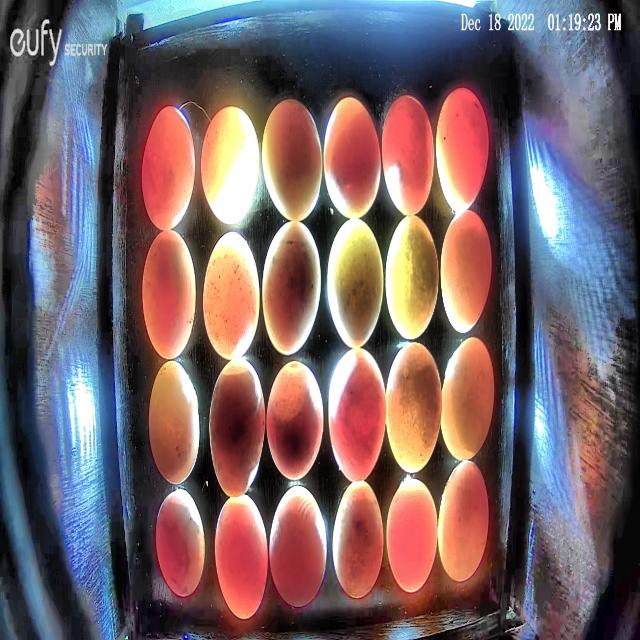DE: (209, 358, 266, 497), (327, 348, 386, 482), (262, 221, 320, 355), (385, 341, 442, 475), (262, 98, 322, 222), (200, 105, 260, 227), (327, 218, 383, 348), (141, 229, 196, 361), (323, 95, 382, 218), (203, 231, 259, 359), (268, 486, 327, 606), (266, 361, 324, 480), (142, 104, 196, 231), (386, 215, 440, 341), (147, 358, 200, 486), (435, 87, 489, 211), (215, 494, 268, 620), (381, 94, 435, 216), (441, 339, 494, 462), (440, 212, 492, 334), (332, 479, 384, 600), (438, 462, 489, 583), (387, 477, 437, 593), (155, 488, 205, 597)
